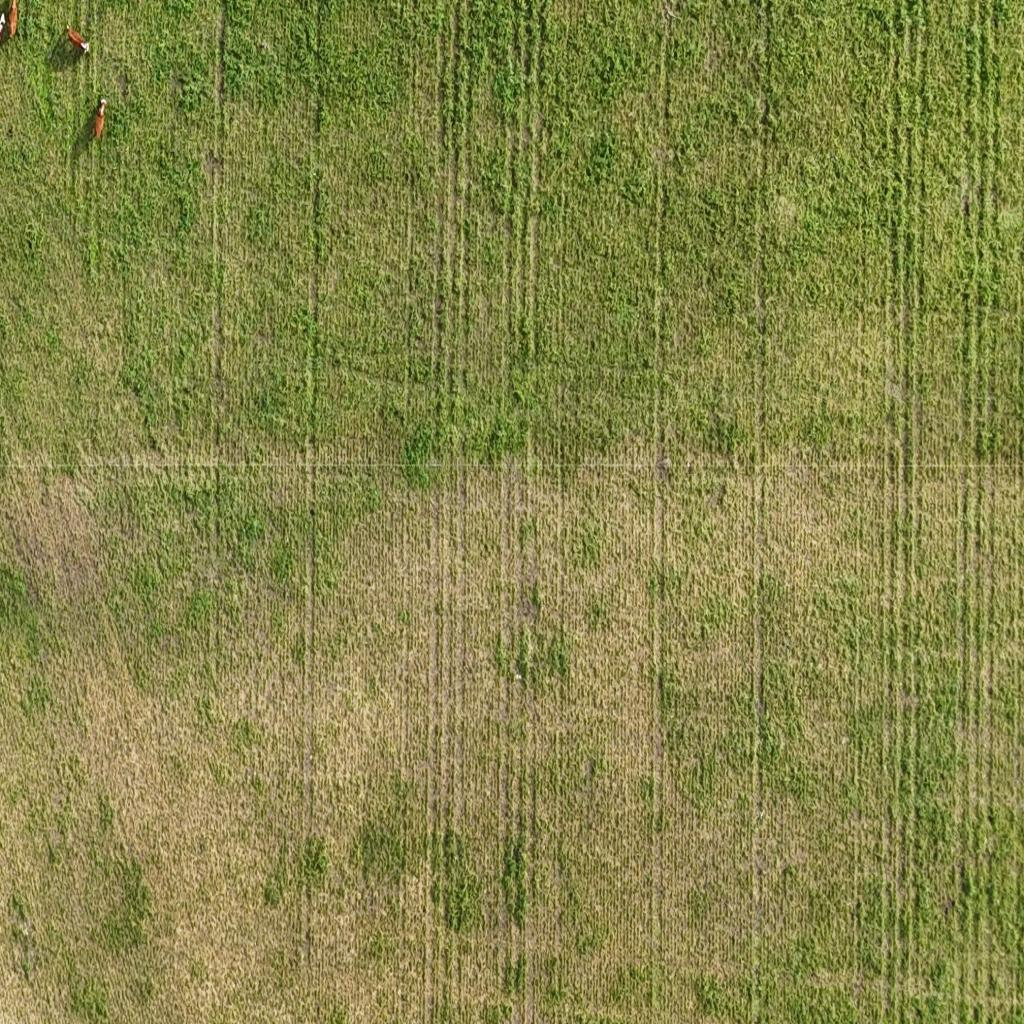cow: (66, 23, 90, 52), (92, 98, 108, 140), (6, 0, 20, 44)
